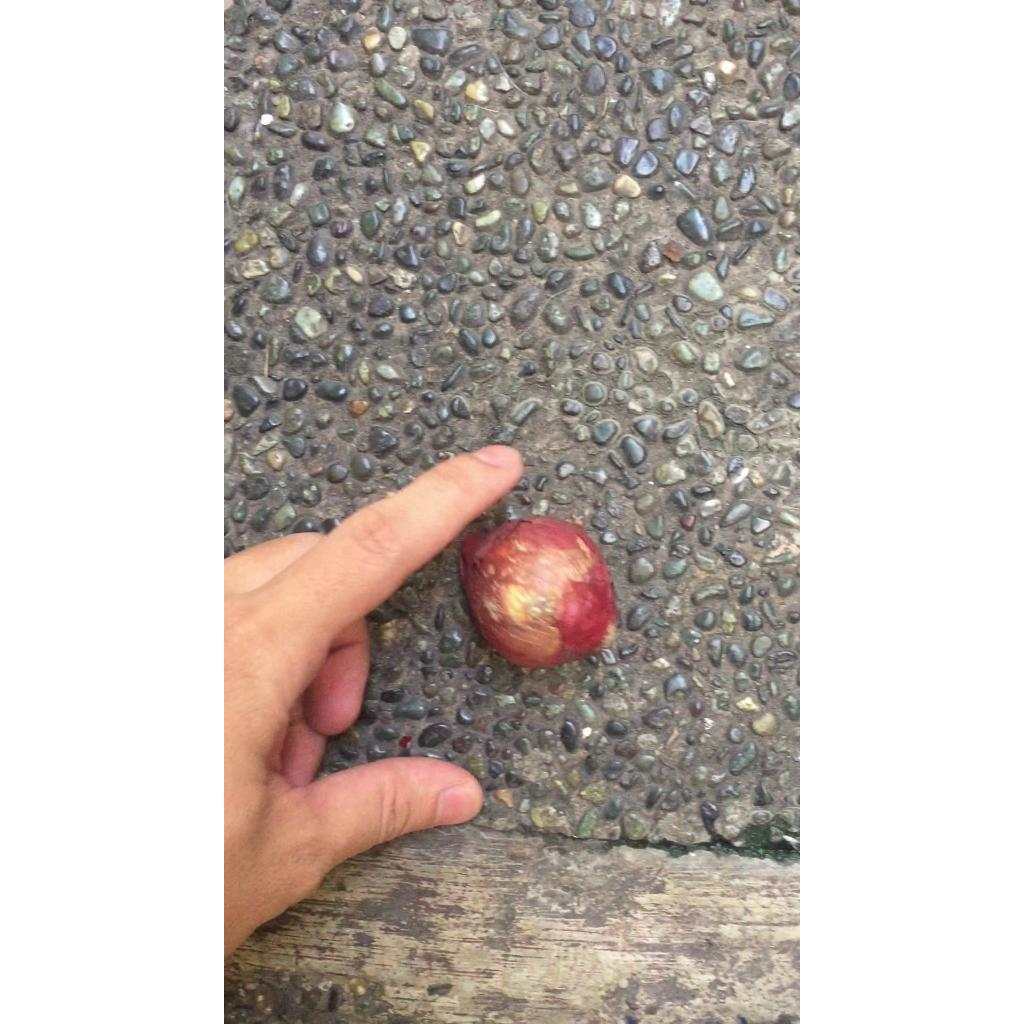Onion: (460, 517, 617, 669)
